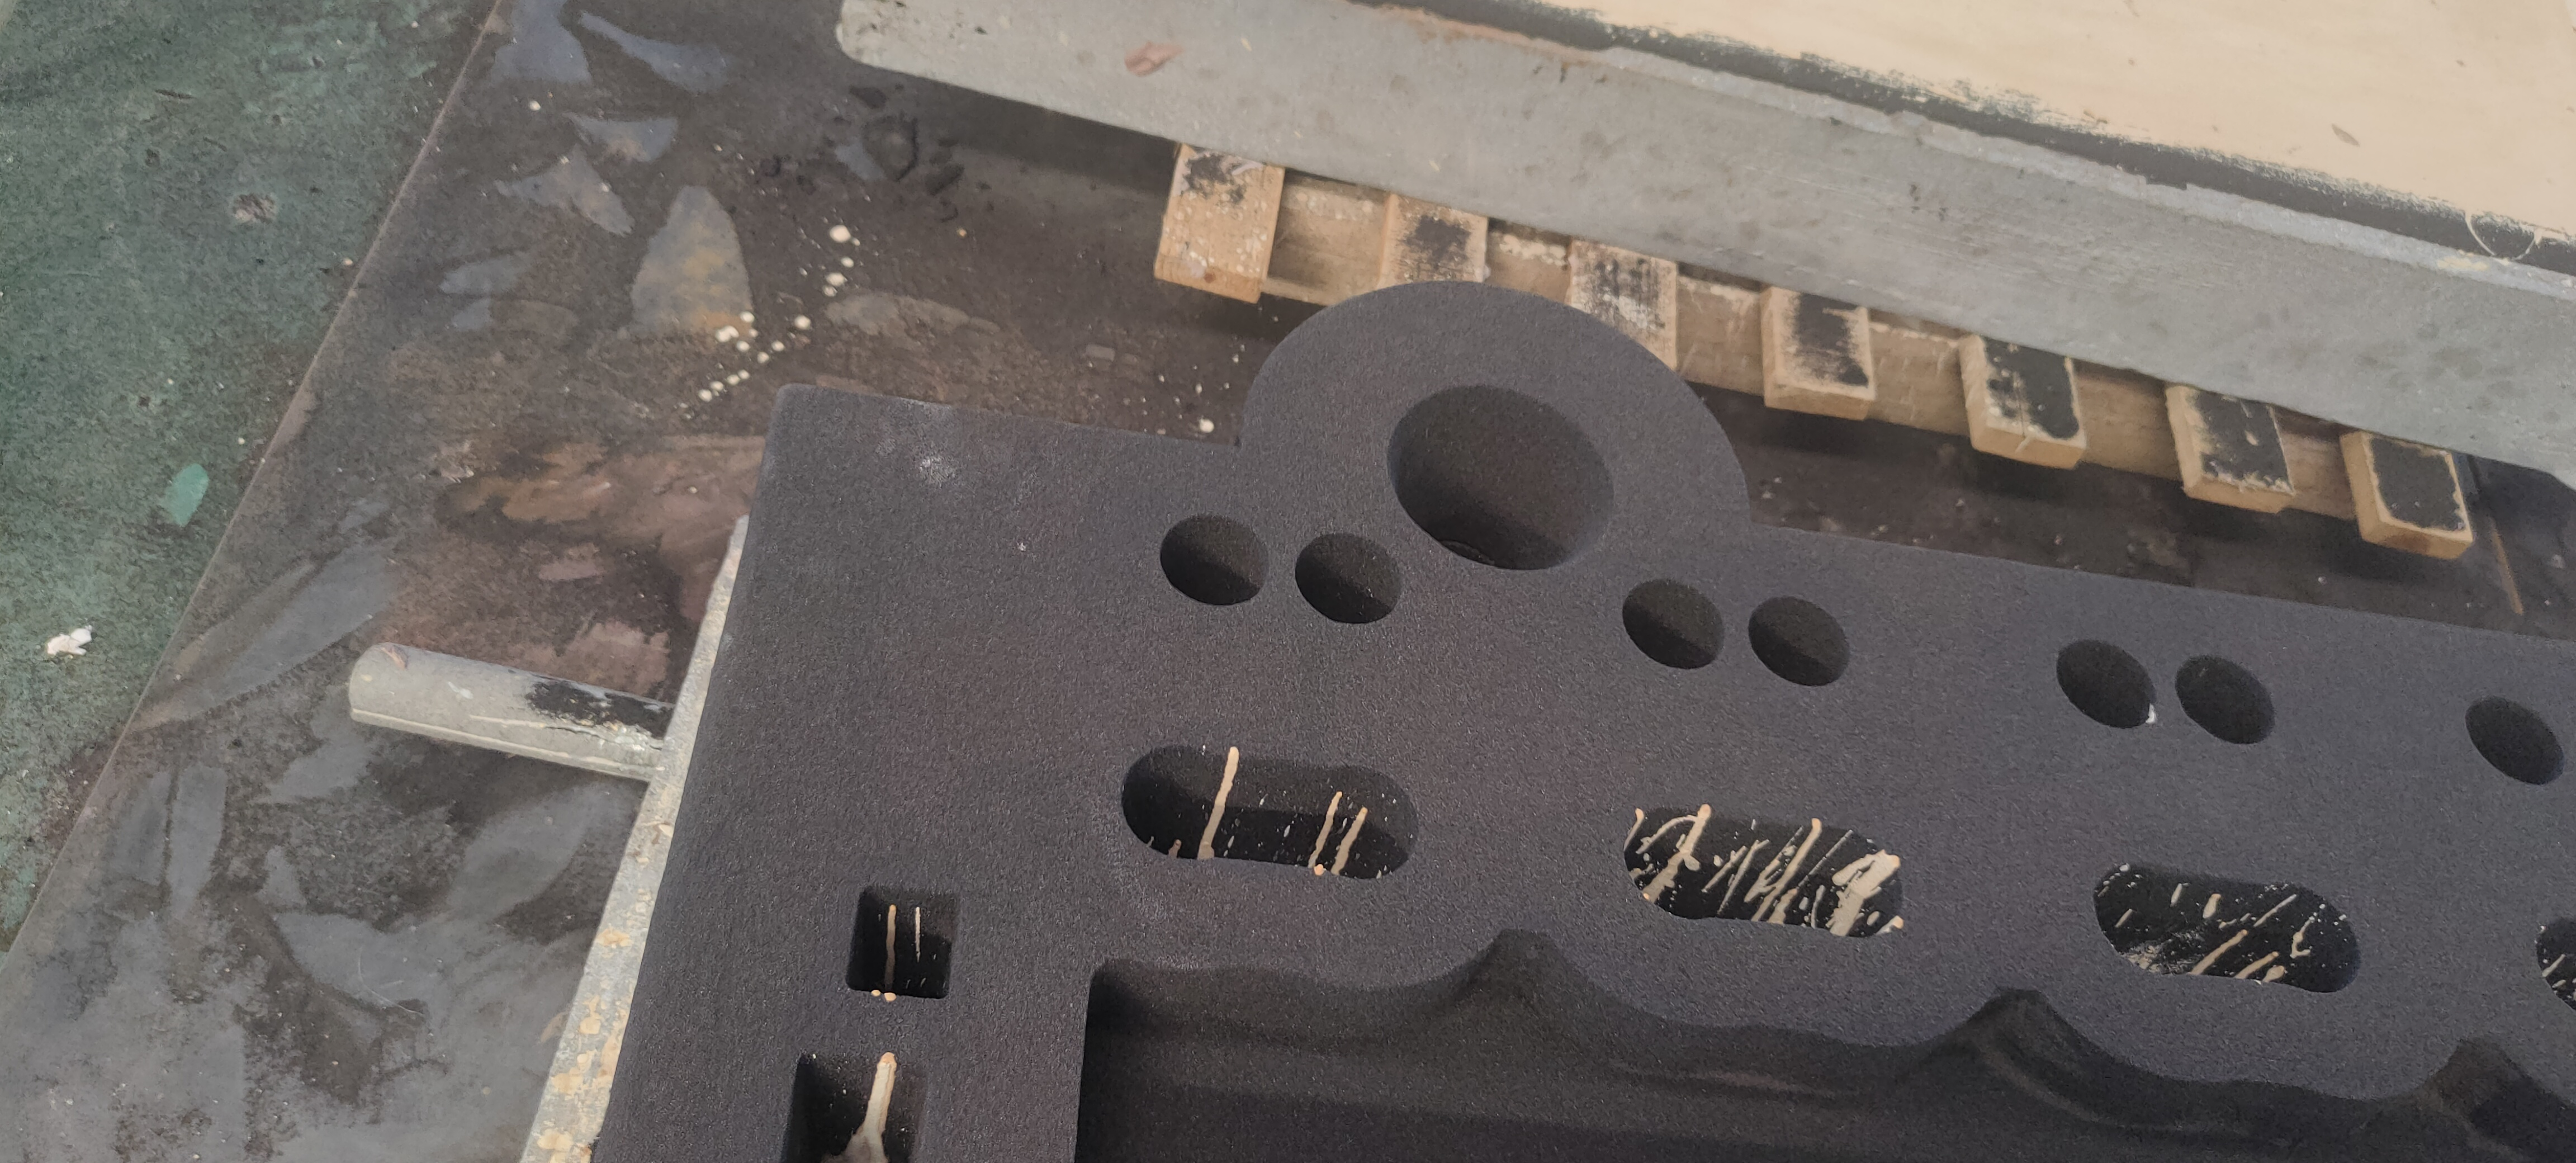pouring hole: (1385, 384, 1617, 575)
